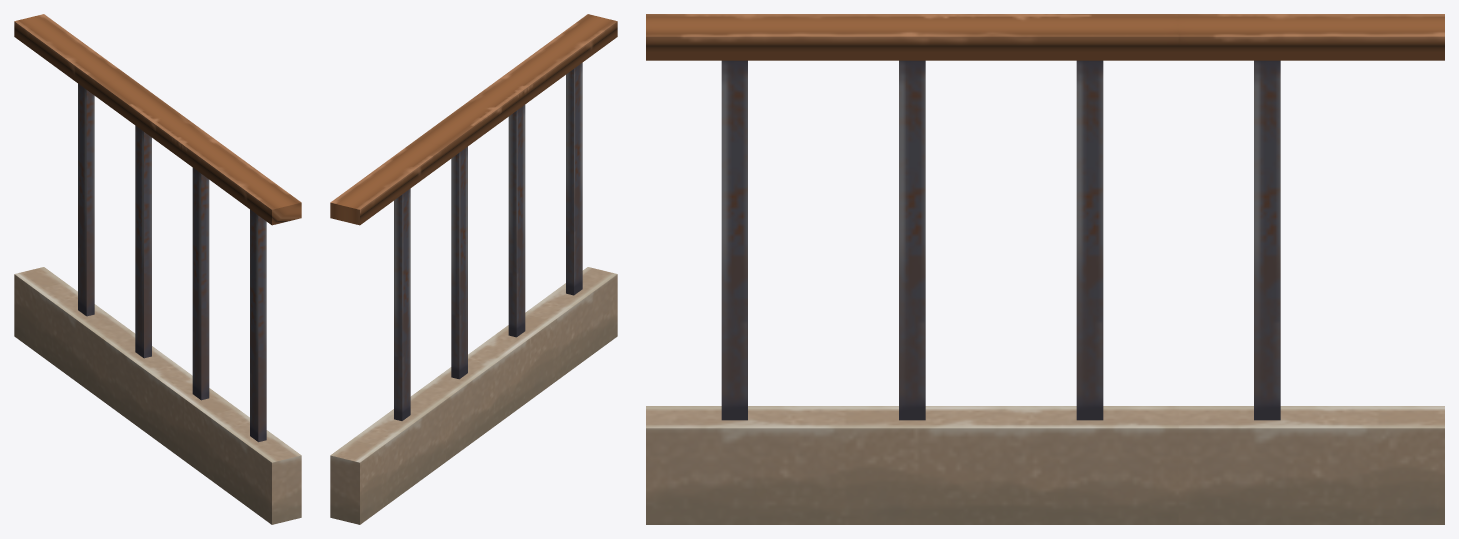
The model's file is railing_1.5m.fbx.
The picture shows the model from 3 angles, left to right: view 1: azimuth 30°, elevation 25°; view 2: azimuth 150°, elevation 25°; view 3: azimuth 270°, elevation 25°; orthographic projection. The views are drawn at different scales.
Visible parts, largest first — view 1: railing_1.5m; view 2: railing_1.5m; view 3: railing_1.5m.
Boxes of the visible parts, x1,y1,x2,y2 form: railing_1.5m: (14,14,301,524); railing_1.5m: (330,14,617,524); railing_1.5m: (646,14,1444,524).
Size of the model in its own units: 10 by 101 by 150.
